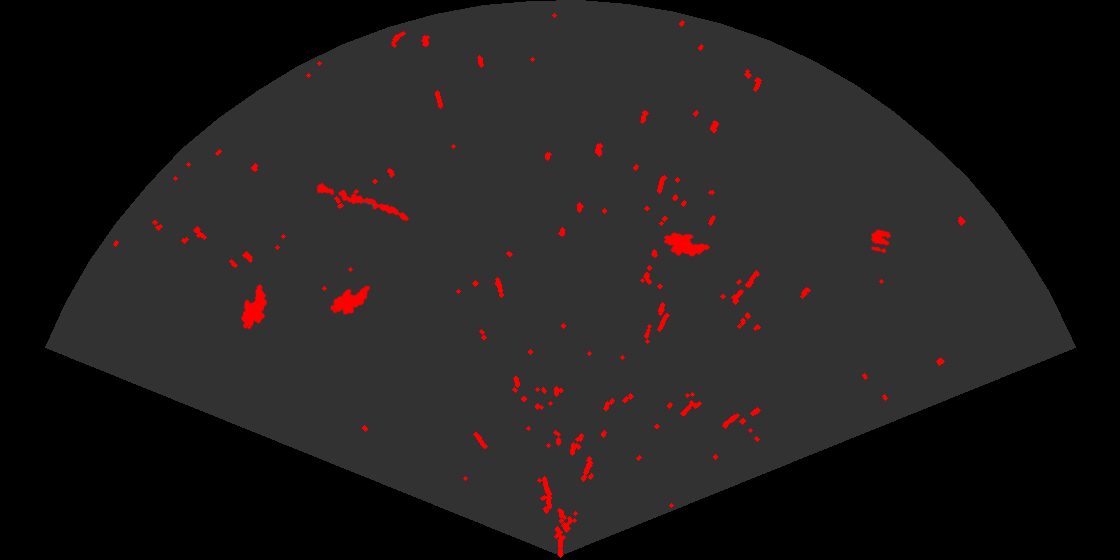AUV: (240, 283, 269, 331), (329, 284, 372, 316), (662, 231, 712, 258)
ball: (869, 228, 893, 255)
chain: (314, 181, 410, 223)
